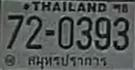0: (57, 15, 73, 48)
2: (25, 15, 42, 48)
3: (76, 16, 92, 49), (112, 16, 128, 49)
7: (7, 14, 23, 48)
9: (94, 16, 110, 49)
SPK: (24, 52, 110, 70)
